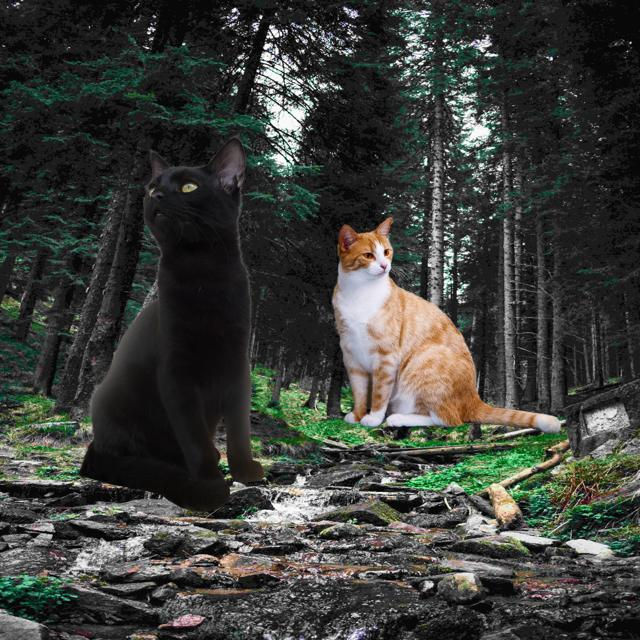cat: (65, 127, 307, 523), (320, 209, 573, 442)
